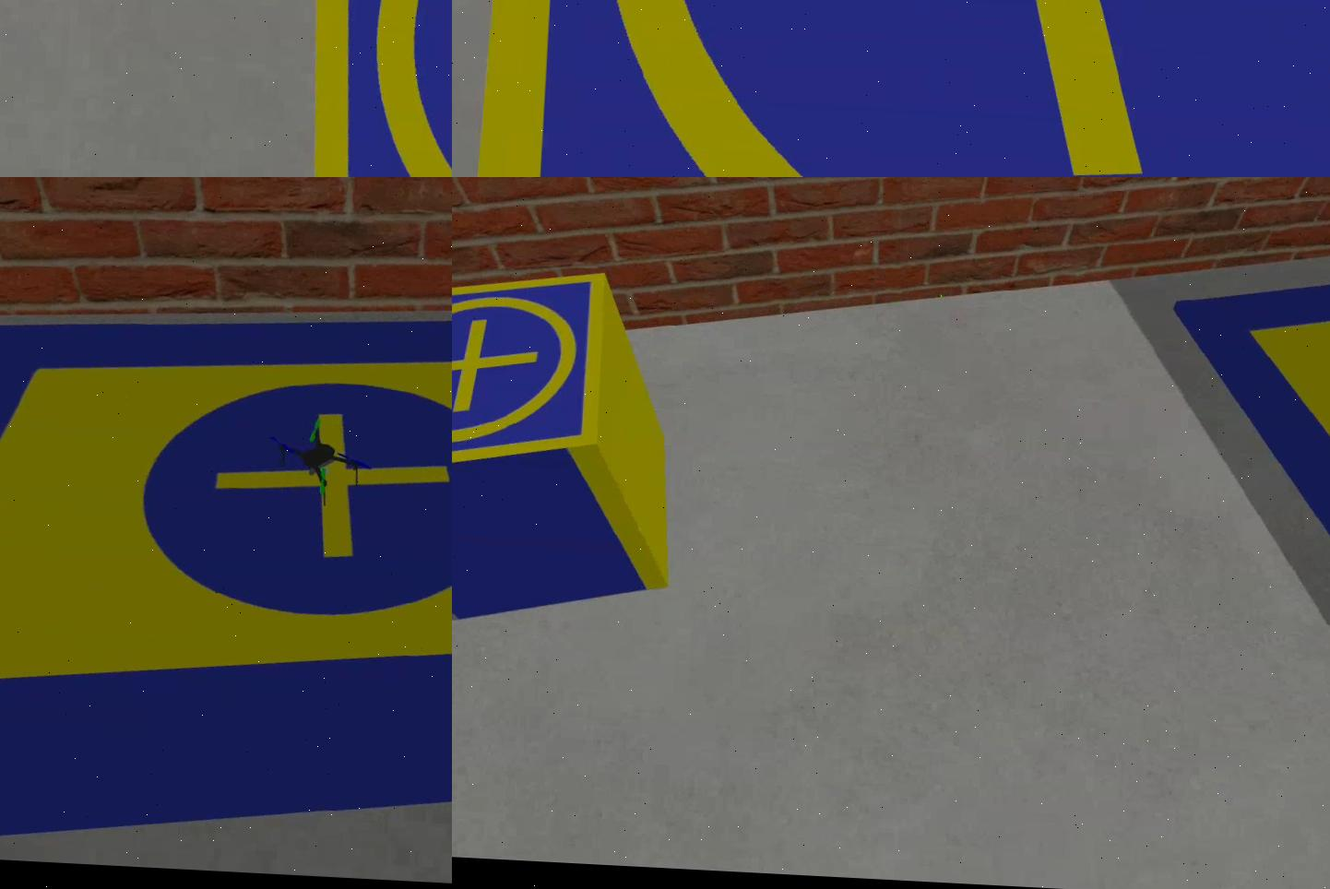large_base: (1, 279, 453, 889), (1153, 255, 1330, 743)
small_base: (458, 1, 1330, 178), (453, 264, 610, 491), (289, 1, 453, 178)
